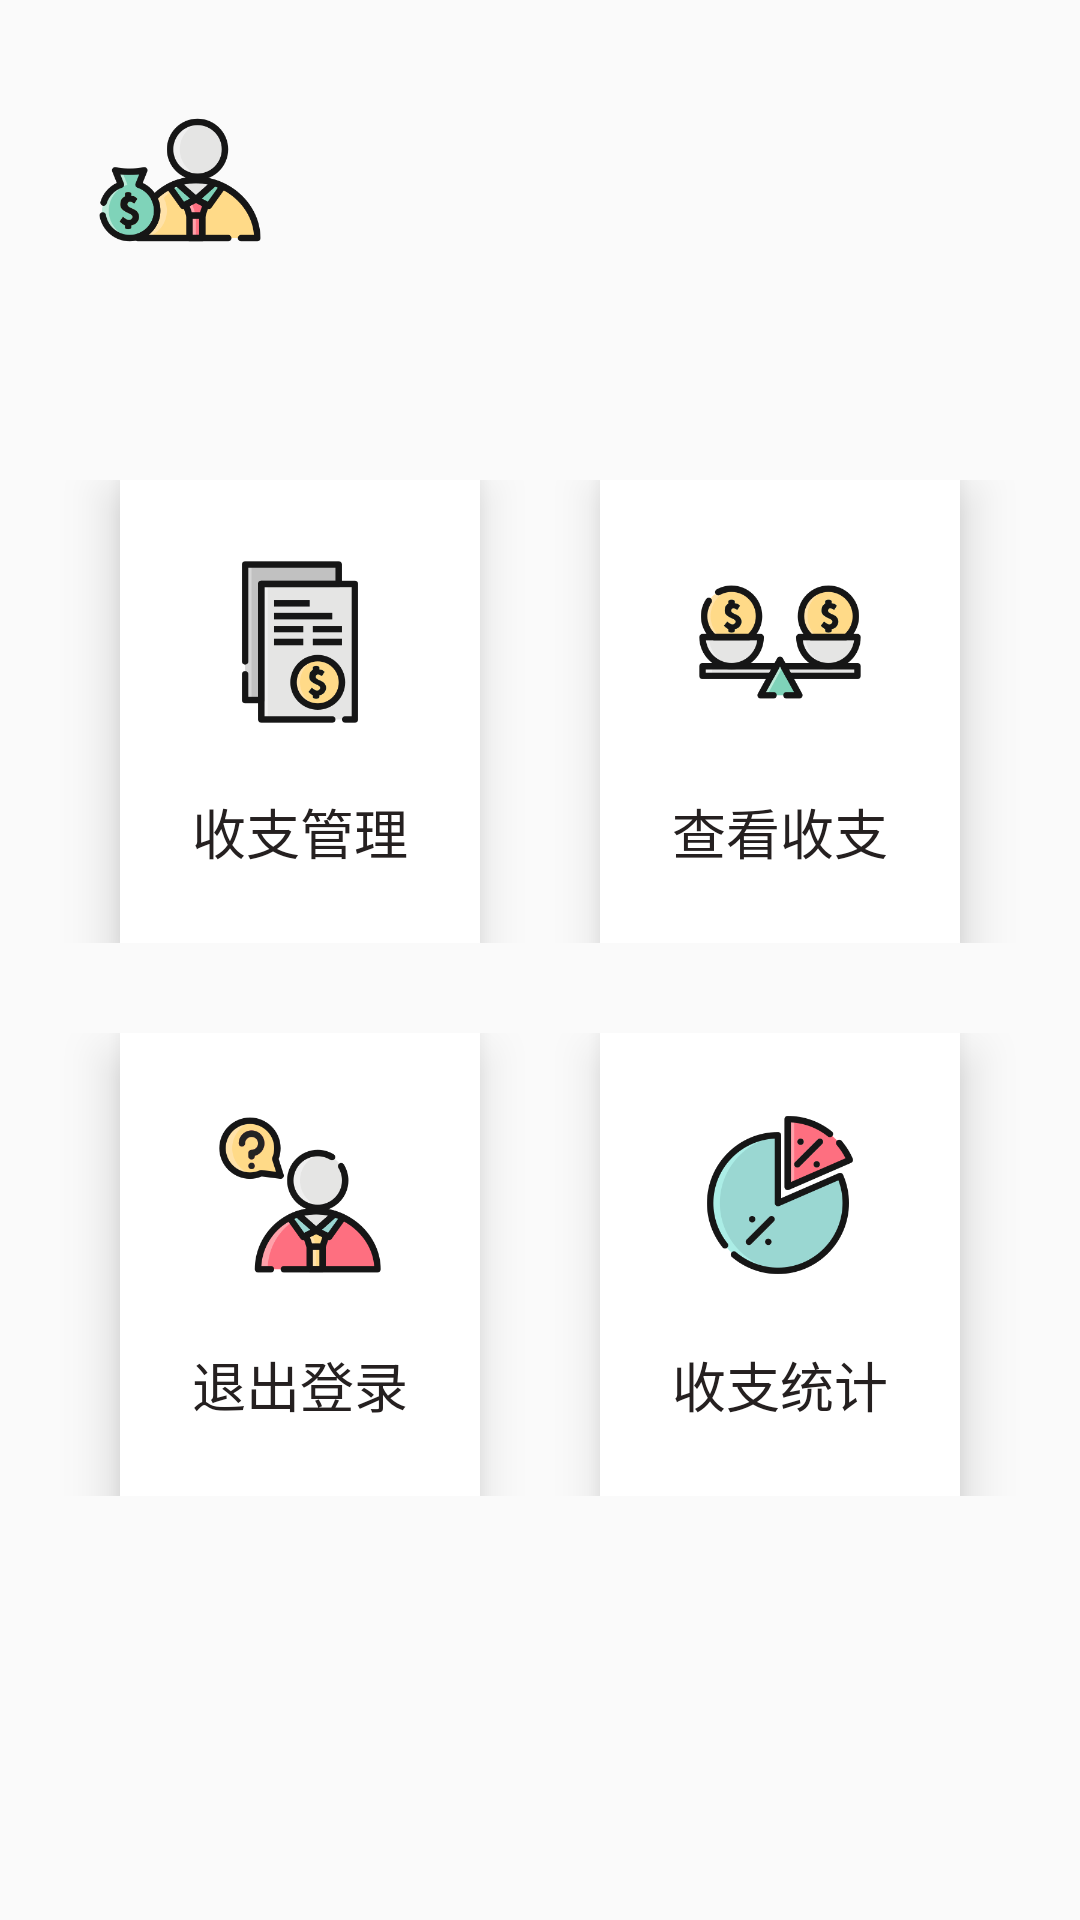

Icon click points for this 1080×1920 phone screenshot, format (x,y):
account: (180,180)
revenue: (300,642)
statics: (780,1195)
